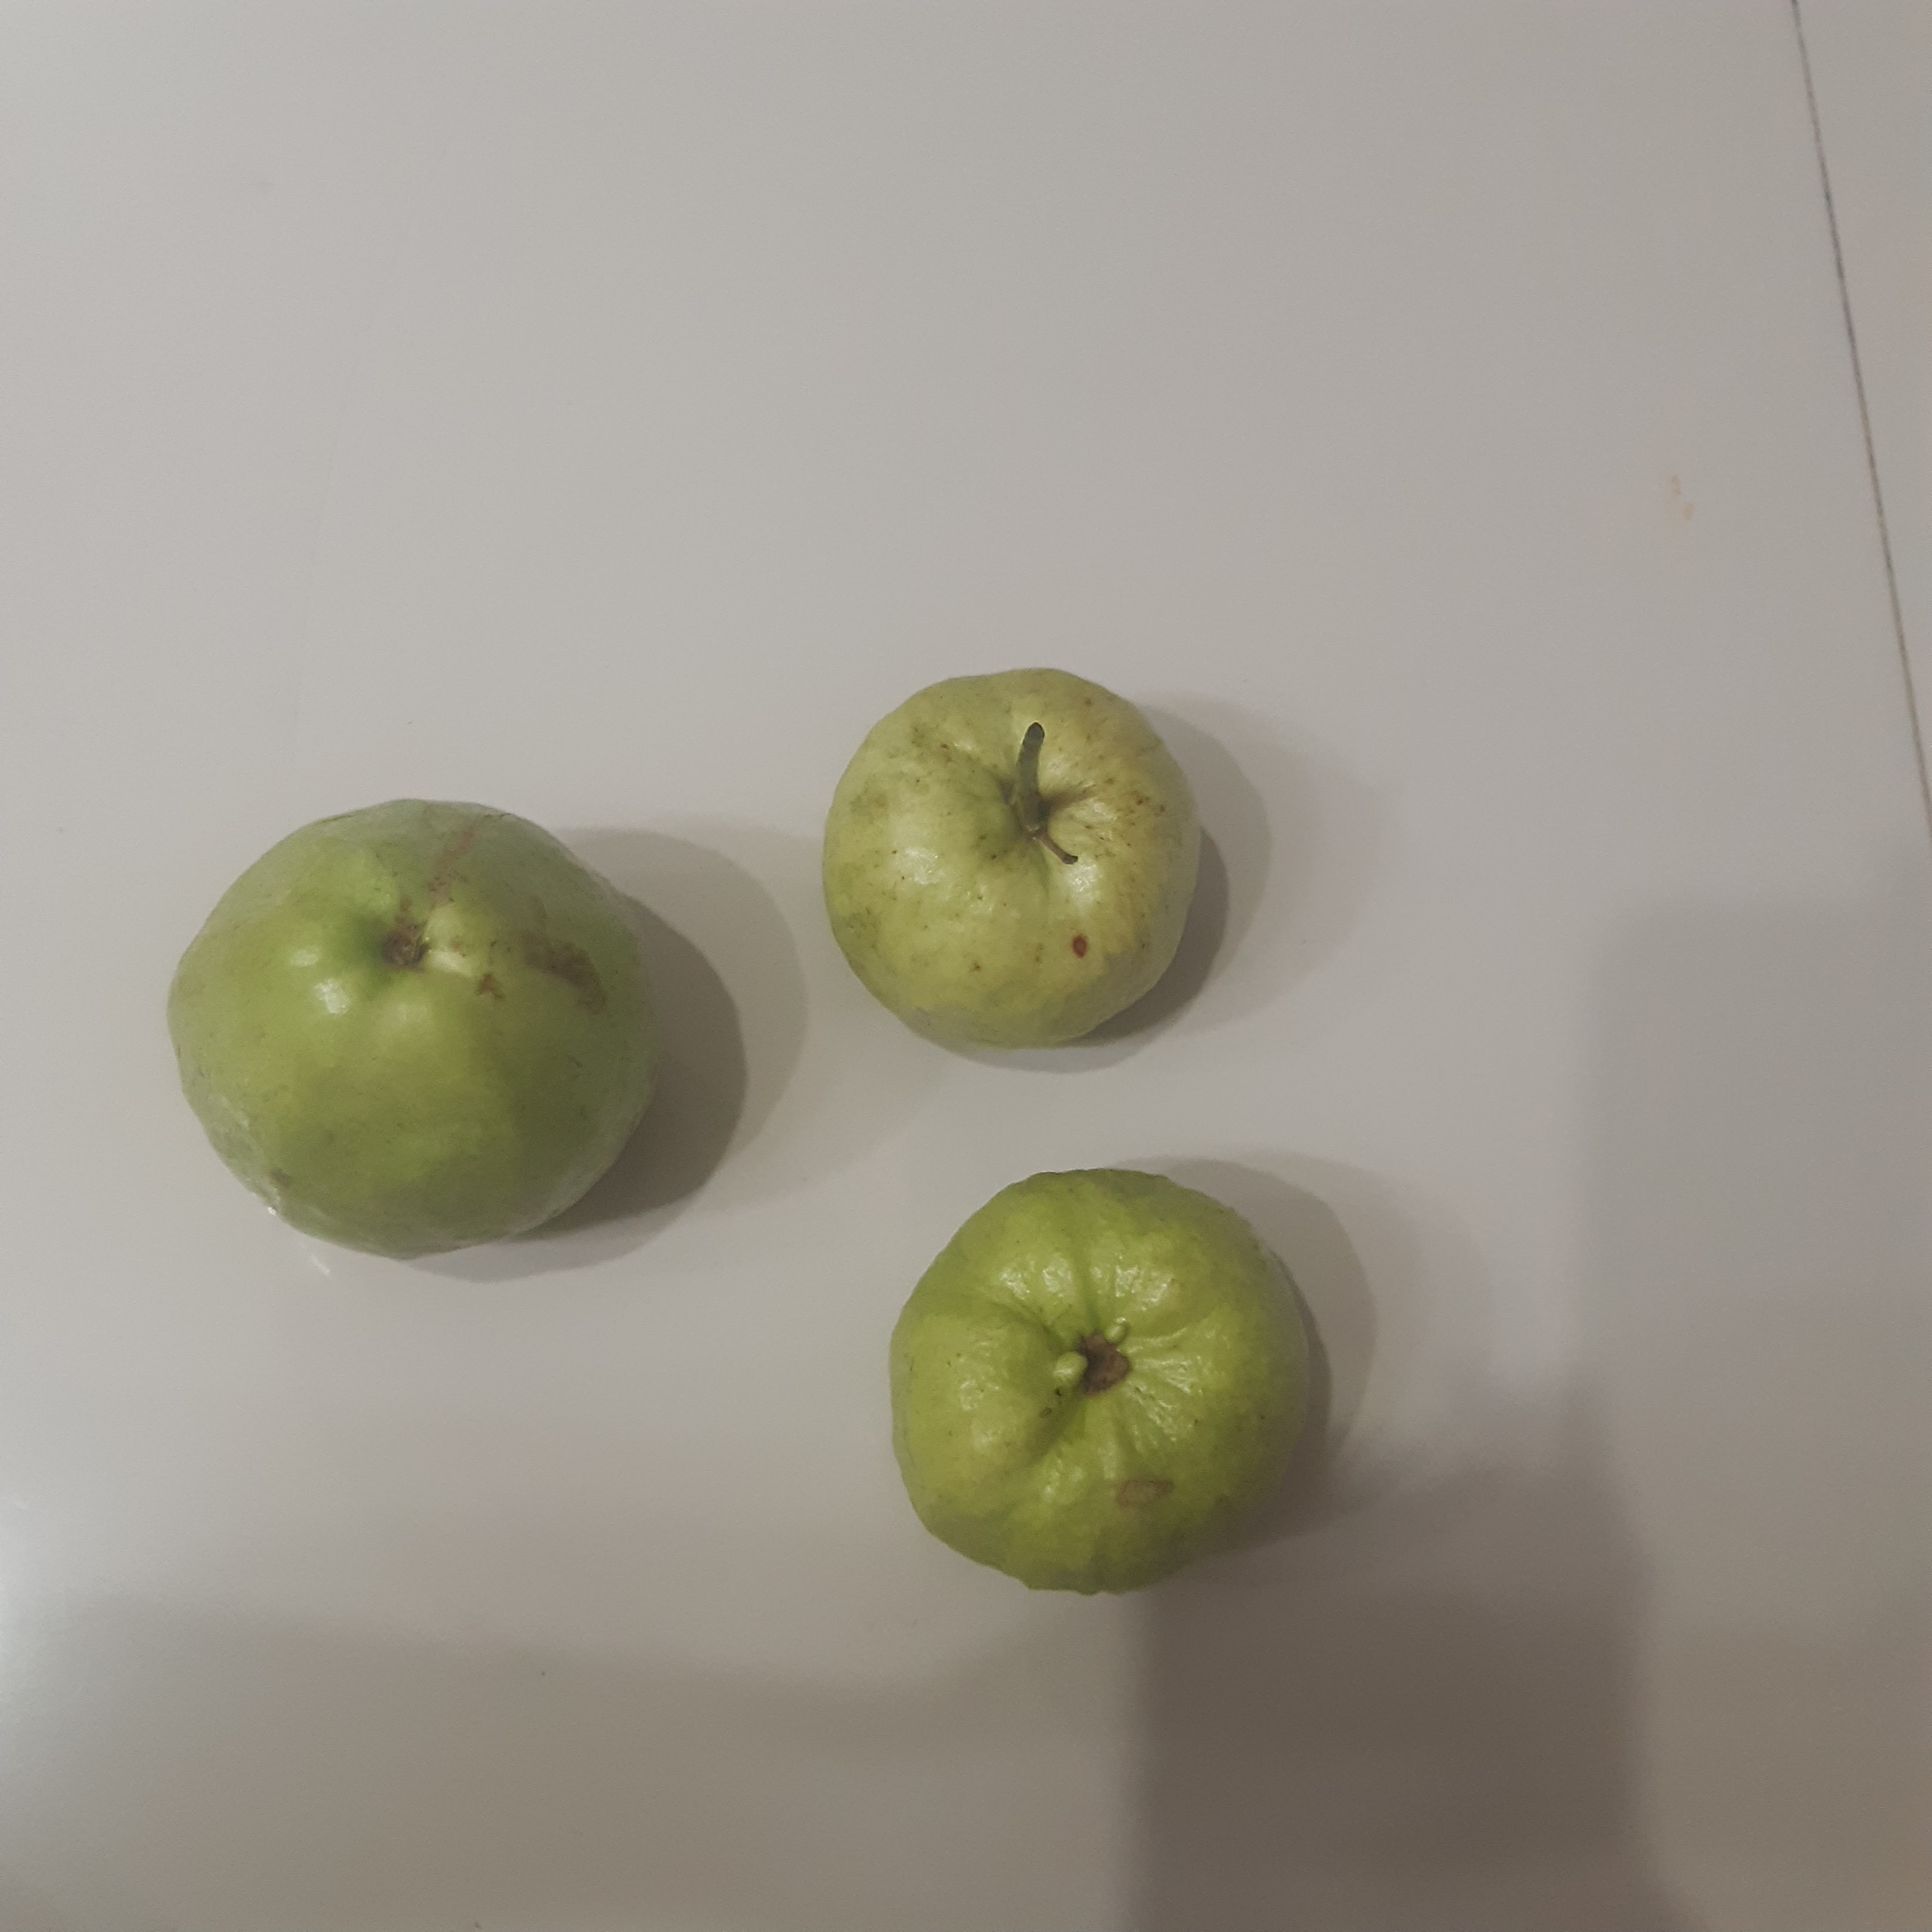Oi: (166, 798, 663, 1261), (888, 1168, 1315, 1598), (821, 665, 1203, 1053)
